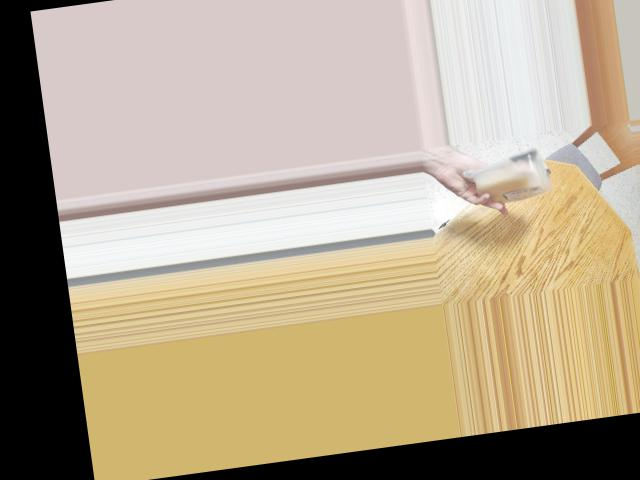cheese: (476, 153, 547, 205)
